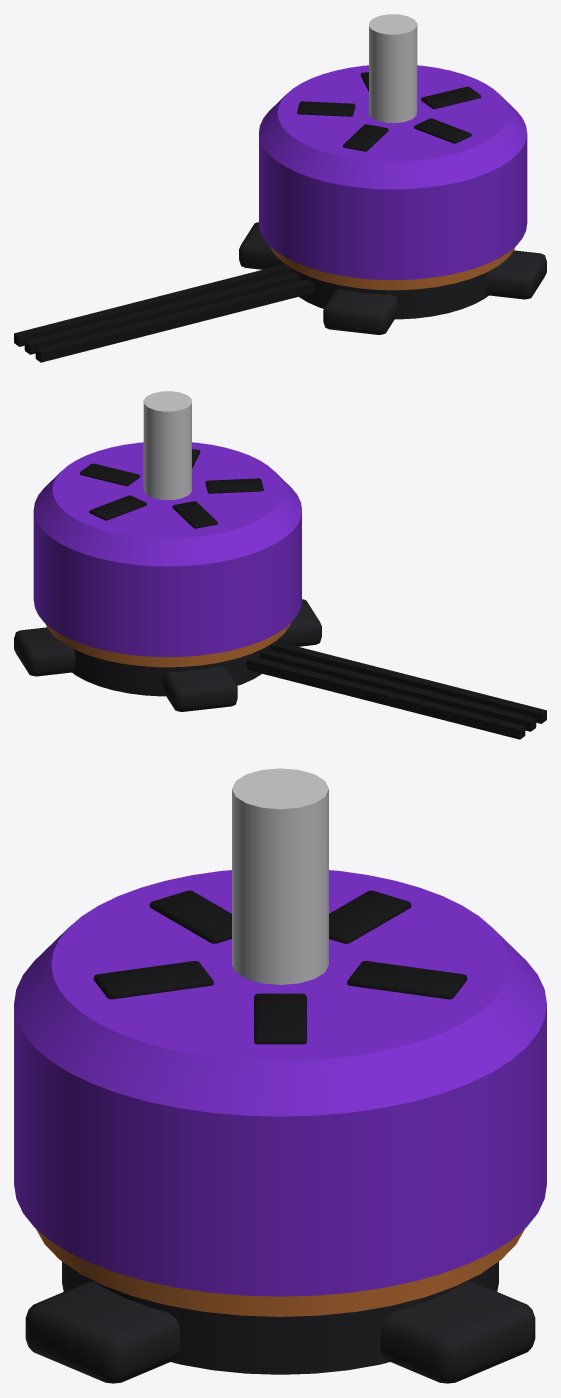
Rendered from motor_2207.glb.
3 renders of one model, top to bottom at view 1: azimuth 30°, elevation 25°; view 2: azimuth 150°, elevation 25°; view 3: azimuth 270°, elevation 25°, orthographic. The views are drawn at different scales.
Parts seen in each view (by area): view 1: motor_2207_M_Bell_2207, motor_2207_M_WireBlack, motor_2207_M_MotorBase, motor_2207_M_Steel, motor_2207_M_MotorDark, motor_2207_M_Copper; view 2: motor_2207_M_Bell_2207, motor_2207_M_WireBlack, motor_2207_M_MotorBase, motor_2207_M_Steel, motor_2207_M_MotorDark, motor_2207_M_Copper; view 3: motor_2207_M_Bell_2207, motor_2207_M_MotorBase, motor_2207_M_Steel, motor_2207_M_MotorDark, motor_2207_M_Copper.
Part boxes in pixels (left/top/right/bottom): motor_2207_M_Bell_2207: left=259, top=65, right=527, bottom=280; motor_2207_M_WireBlack: left=14, top=264, right=314, bottom=362; motor_2207_M_MotorBase: left=239, top=222, right=546, bottom=334; motor_2207_M_Steel: left=369, top=14, right=417, bottom=122; motor_2207_M_MotorDark: left=297, top=72, right=481, bottom=151; motor_2207_M_Copper: left=270, top=246, right=515, bottom=290; motor_2207_M_Bell_2207: left=33, top=442, right=301, bottom=657; motor_2207_M_WireBlack: left=246, top=641, right=546, bottom=739; motor_2207_M_MotorBase: left=14, top=599, right=321, bottom=711; motor_2207_M_Steel: left=143, top=391, right=191, bottom=499; motor_2207_M_MotorDark: left=79, top=449, right=263, bottom=528; motor_2207_M_Copper: left=45, top=623, right=290, bottom=667; motor_2207_M_Bell_2207: left=14, top=870, right=546, bottom=1296; motor_2207_M_MotorBase: left=25, top=1261, right=535, bottom=1383; motor_2207_M_Steel: left=232, top=768, right=328, bottom=984; motor_2207_M_MotorDark: left=93, top=890, right=467, bottom=1044; motor_2207_M_Copper: left=36, top=1229, right=524, bottom=1316.
Size of the model in its own units: 0.057 by 0.0281 by 0.0275.
